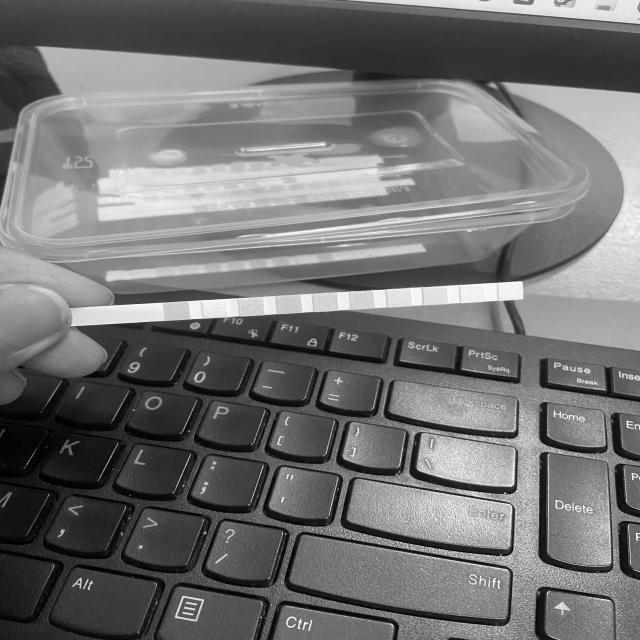Bilirubin: (203, 301, 226, 316)
Blood: (314, 294, 336, 310)
Glucose: (164, 304, 188, 319)
Ketone: (240, 300, 263, 315)
Leukocytes: (499, 283, 522, 299)
Nitrite: (461, 286, 483, 302)
Protein: (388, 290, 410, 306)
SpGravity: (278, 297, 301, 312)
Urobilinogen: (424, 288, 446, 304)
background: (0, 0, 640, 640)
pH: (351, 293, 372, 308)
strip: (73, 282, 523, 325)
